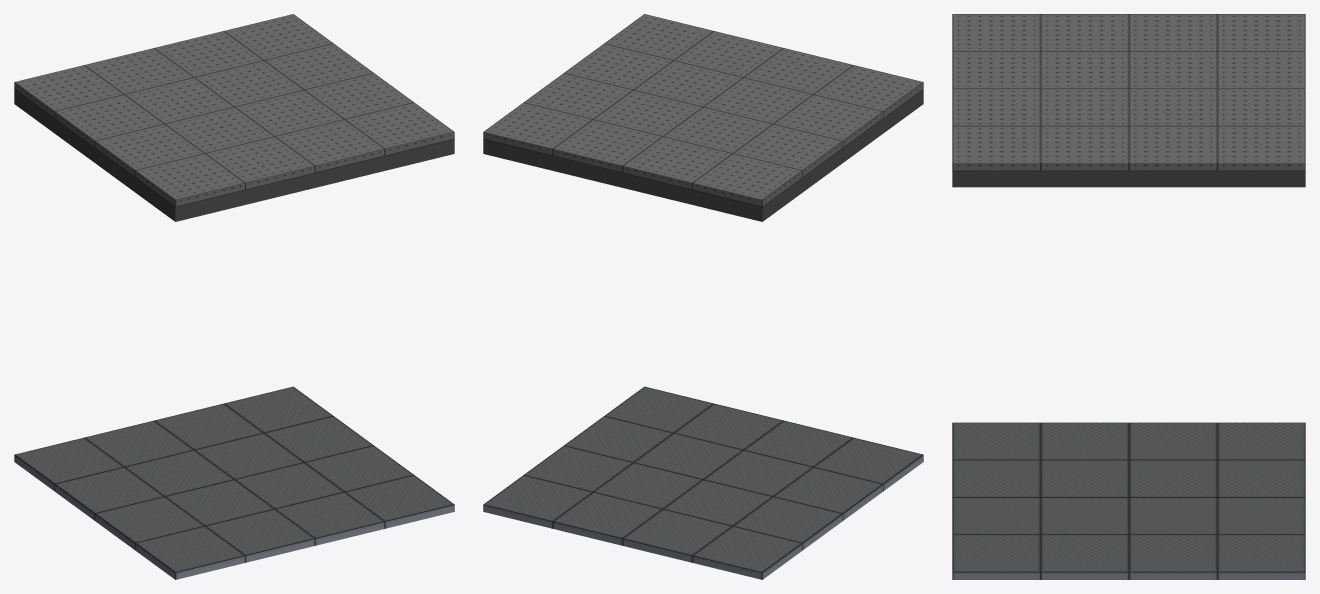
The model's file is Room_SciFi_Floor_NoLight.glb.
The picture shows the model from 3 angles, left to right: view 1: azimuth 30°, elevation 25°; view 2: azimuth 150°, elevation 25°; view 3: azimuth 270°, elevation 25°; orthographic projection. The views are drawn at different scales.
Visible parts, largest first — view 1: Room_SciFi_Floor_NoLight_Ceiling, Room_SciFi_Floor_NoLight; view 2: Room_SciFi_Floor_NoLight_Ceiling, Room_SciFi_Floor_NoLight; view 3: Room_SciFi_Floor_NoLight_Ceiling, Room_SciFi_Floor_NoLight.
Boxes of the visible parts, x1,y1,x2,y2 form: Room_SciFi_Floor_NoLight_Ceiling: (14,14,454,221); Room_SciFi_Floor_NoLight: (14,386,454,579); Room_SciFi_Floor_NoLight_Ceiling: (483,14,923,221); Room_SciFi_Floor_NoLight: (483,386,923,579); Room_SciFi_Floor_NoLight_Ceiling: (952,14,1305,187); Room_SciFi_Floor_NoLight: (952,422,1305,579).
Size of the model in its own units: 4 by 5.2 by 4.
Materials: 4 (3 with a texture image).
